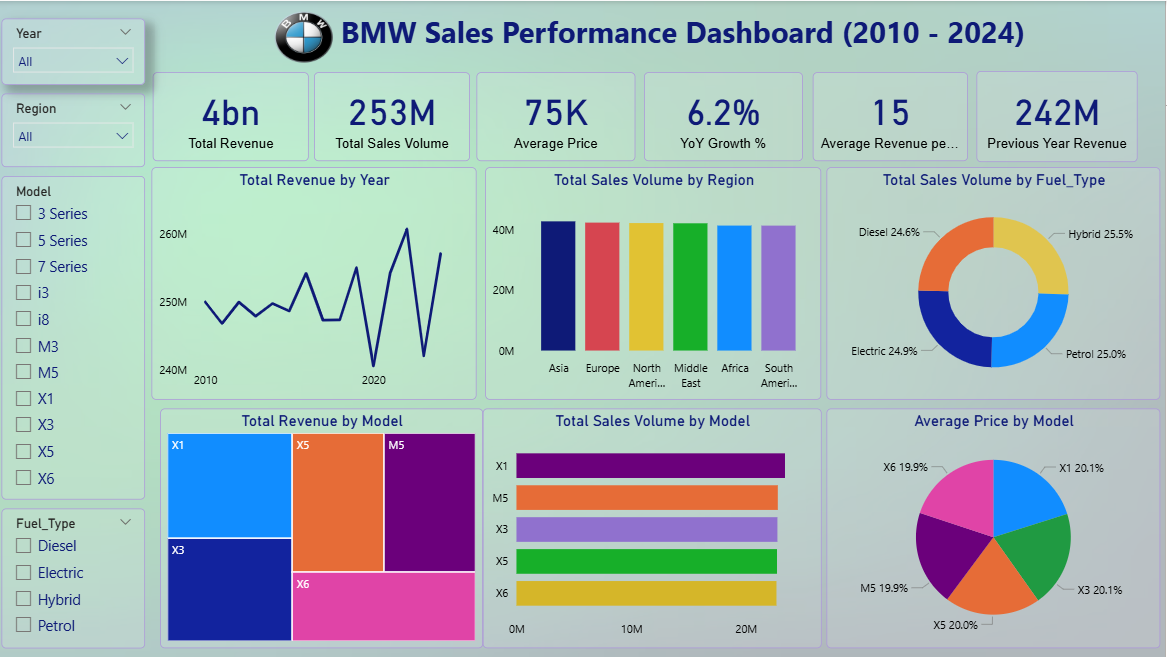

What the dashboard file says about the page in this screenshot:
{"tool":"powerbi","page":{"name":"Page 1","canvas":[1280,720],"ordinal":0},"visuals":[{"type":"card","fields":{"Values":["BMW sales data (2010-2024).YoY Growth %"]},"box":[708.1,78.2,174.3,97.4],"z":0},{"type":"card","fields":{"Values":["BMW sales data (2010-2024).Total Revenue"]},"box":[168.8,78.2,171.5,97.4],"z":1000},{"type":"card","fields":{"Values":["BMW sales data (2010-2024).Total Sales Volume"]},"box":[345.8,78.2,171.5,97.4],"z":2000},{"type":"card","fields":{"Values":["BMW sales data (2010-2024).Average Price"]},"box":[524.2,78.2,174.3,97.4],"z":3000},{"type":"pieChart","fields":{"Category":["BMW sales data (2010-2024).Model"],"Y":["BMW sales data (2010-2024).Average Price"]},"box":[908.4,447.3,366.4,263.5],"z":4000},{"type":"columnChart","fields":{"Category":["BMW sales data (2010-2024).Region"],"Y":["BMW sales data (2010-2024).Total Sales Volume"]},"box":[533.8,182.5,369.1,255.2],"z":5000},{"type":"treemap","fields":{"Group":["BMW sales data (2010-2024).Model"],"Values":["BMW sales data (2010-2024).Total Revenue"]},"box":[177,447.3,354,263.5],"z":6000},{"type":"barChart","fields":{"Category":["BMW sales data (2010-2024).Model"],"Y":["BMW sales data (2010-2024).Total Sales Volume"]},"box":[531,447.3,371.9,263.5],"z":7000},{"type":"lineChart","fields":{"Category":["BMW sales data (2010-2024).Year"],"Y":["BMW sales data (2010-2024).Total Revenue"]},"box":[167.4,182.5,356.8,255.2],"z":8000},{"type":"donutChart","fields":{"Category":["BMW sales data (2010-2024).Fuel_Type"],"Y":["BMW sales data (2010-2024).Total Sales Volume"]},"box":[908.4,182.5,366.4,255.2],"z":9000},{"type":"slicer","fields":{"Values":["BMW sales data (2010-2024).Year"]},"box":[2.7,19.2,157.8,72.7],"z":10000},{"type":"slicer","fields":{"Values":["BMW sales data (2010-2024).Region"]},"box":[2.7,101.5,157.8,81],"z":11000},{"type":"slicer","fields":{"Values":["BMW sales data (2010-2024).Fuel_Type"]},"box":[2.7,557.1,157.8,153.7],"z":12000},{"type":"slicer","fields":{"Values":["BMW sales data (2010-2024).Model"]},"box":[2.7,192.1,157.8,355.4],"z":13000},{"type":"textbox","box":[297.8,6.9,897.4,71.4],"z":14000},{"type":"card","fields":{"Values":["BMW sales data (2010-2024).Average Revenue per Unit"]},"box":[893.3,78.2,170.2,97.4],"z":15000},{"type":"card","fields":{"Values":["BMW sales data (2010-2024).Previous Year Revenue"]},"box":[1073.1,76.8,177,100.2],"z":16000},{"type":"image","box":[297.8,6.9,74.1,65.9],"z":17000}]}

Visuals, with their boxes in screenshot pixels (x1, y1, x2, y2), scaled from the page's 1280x720 canvas onto the 1167x657 screenshot:
card - BMW sales data (2010-2024).YoY Growth %: (left=646, top=71, right=805, bottom=160)
card - BMW sales data (2010-2024).Total Revenue: (left=154, top=71, right=310, bottom=160)
card - BMW sales data (2010-2024).Total Sales Volume: (left=315, top=71, right=472, bottom=160)
card - BMW sales data (2010-2024).Average Price: (left=478, top=71, right=637, bottom=160)
pieChart - BMW sales data (2010-2024).Model x BMW sales data (2010-2024).Average Price: (left=828, top=408, right=1162, bottom=649)
columnChart - BMW sales data (2010-2024).Region x BMW sales data (2010-2024).Total Sales Volume: (left=487, top=167, right=823, bottom=399)
treemap - BMW sales data (2010-2024).Model x BMW sales data (2010-2024).Total Revenue: (left=161, top=408, right=484, bottom=649)
barChart - BMW sales data (2010-2024).Model x BMW sales data (2010-2024).Total Sales Volume: (left=484, top=408, right=823, bottom=649)
lineChart - BMW sales data (2010-2024).Year x BMW sales data (2010-2024).Total Revenue: (left=153, top=167, right=478, bottom=399)
donutChart - BMW sales data (2010-2024).Fuel_Type x BMW sales data (2010-2024).Total Sales Volume: (left=828, top=167, right=1162, bottom=399)
slicer - BMW sales data (2010-2024).Year: (left=2, top=18, right=146, bottom=84)
slicer - BMW sales data (2010-2024).Region: (left=2, top=93, right=146, bottom=167)
slicer - BMW sales data (2010-2024).Fuel_Type: (left=2, top=508, right=146, bottom=649)
slicer - BMW sales data (2010-2024).Model: (left=2, top=175, right=146, bottom=500)
textbox: (left=272, top=6, right=1090, bottom=71)
card - BMW sales data (2010-2024).Average Revenue per Unit: (left=814, top=71, right=970, bottom=160)
card - BMW sales data (2010-2024).Previous Year Revenue: (left=978, top=70, right=1140, bottom=162)
image: (left=272, top=6, right=339, bottom=66)
